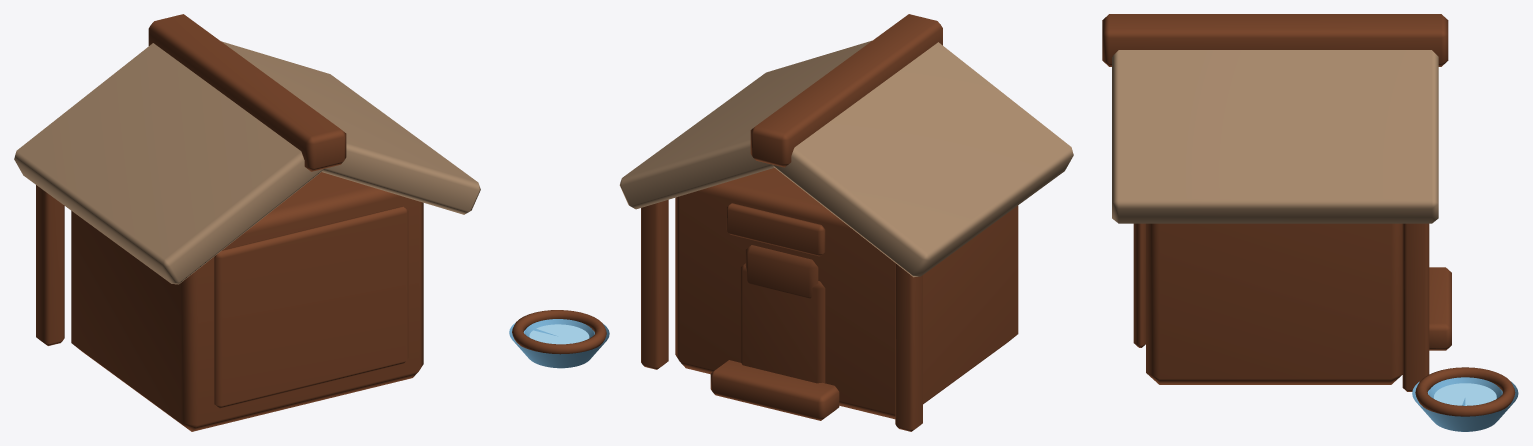
The model's file is DogHouse.glb.
3 renders of one model, left to right at view 1: azimuth 30°, elevation 25°; view 2: azimuth 150°, elevation 25°; view 3: azimuth 270°, elevation 25°, orthographic. The views are drawn at different scales.
Parts seen in each view (by area): view 1: DogHouse_Roof_Left, DogHouse_Walls, DogHouse_BackShadow, DogHouse_Roof_Right, DogHouse_RidgeCap, DogHouse_Trim_Left; view 2: DogHouse_Walls, DogHouse_Roof_Left, DogHouse_Roof_Right, DogHouse_RidgeCap, DogHouse_Door, DogHouse_Trim_Right, DogHouse_Threshold, DogHouse_Trim_Left, DogHouse_NamePlate, DogHouse_DoorTop, DogHouse_Bowl_Rim, DogHouse_Bowl (+1 smaller); view 3: DogHouse_Roof_Right, DogHouse_Walls, DogHouse_RidgeCap, DogHouse_Trim_Right, DogHouse_Bowl_Rim, DogHouse_Threshold, DogHouse_Bowl, DogHouse_BackShadow, DogHouse_Bowl_Water.
Boxes of the visible parts, box(x1,y1,x2,y2) form: DogHouse_Roof_Left: box(14, 43, 323, 284); DogHouse_Walls: box(71, 172, 423, 431); DogHouse_BackShadow: box(214, 206, 408, 408); DogHouse_Roof_Right: box(221, 41, 480, 214); DogHouse_RidgeCap: box(148, 14, 346, 171); DogHouse_Trim_Left: box(36, 185, 64, 345); DogHouse_Walls: box(675, 168, 1018, 419); DogHouse_Roof_Left: box(772, 42, 1073, 277); DogHouse_Roof_Right: box(619, 40, 871, 209); DogHouse_RidgeCap: box(750, 14, 942, 167); DogHouse_Door: box(740, 263, 825, 383); DogHouse_Trim_Right: box(641, 200, 668, 369); DogHouse_Threshold: box(710, 360, 839, 420); DogHouse_Trim_Left: box(895, 263, 922, 431); DogHouse_NamePlate: box(726, 203, 825, 256); DogHouse_DoorTop: box(745, 245, 818, 298); DogHouse_Bowl_Rim: box(512, 310, 606, 354); DogHouse_Bowl: box(509, 319, 609, 368); DogHouse_Roof_Right: box(1112, 50, 1438, 223); DogHouse_Walls: box(1146, 223, 1402, 384); DogHouse_RidgeCap: box(1102, 14, 1448, 66); DogHouse_Trim_Right: box(1402, 223, 1429, 391); DogHouse_Bowl_Rim: box(1415, 367, 1515, 416); DogHouse_Threshold: box(1429, 267, 1451, 350); DogHouse_Bowl: box(1412, 377, 1518, 431); DogHouse_BackShadow: box(1133, 223, 1145, 347); DogHouse_Bowl_Water: box(1434, 383, 1496, 405).
Size of the model in its own units: 1.32 by 0.89 by 1.1.
